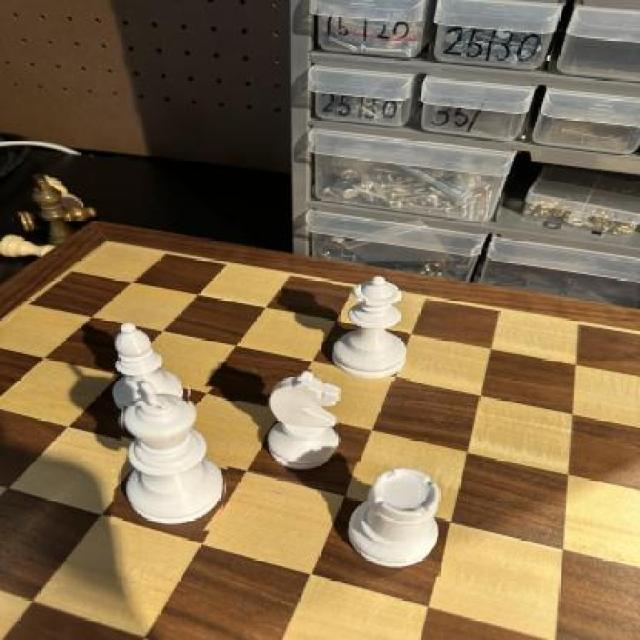black-rook: (94, 317, 188, 406)
white-bishop: (114, 383, 233, 531)
white-king: (263, 368, 342, 474)
white-pawn: (334, 272, 410, 383)
white-queen: (346, 460, 448, 579)
